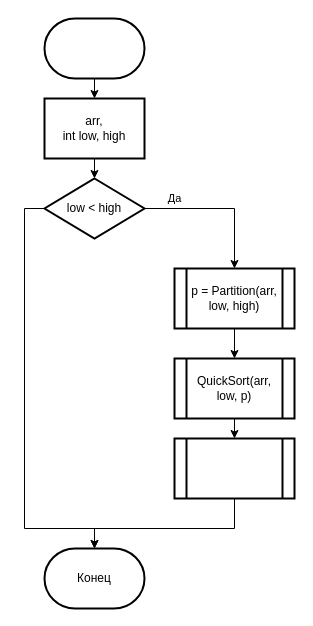
Some shapes in this 313 by 626 pixel diagram are drawn without their labels. The shapes that lost their labels are listed below. From the top down, each one's centre as x and y in pixels, then its label:
[94,48]: Начало
[234,468]: QuickSort(arr, p+1, high)
